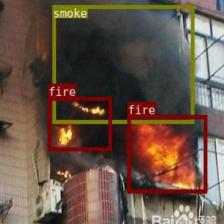fire: (126, 114, 206, 193), (47, 96, 111, 150)
smoke: (52, 4, 194, 123)
